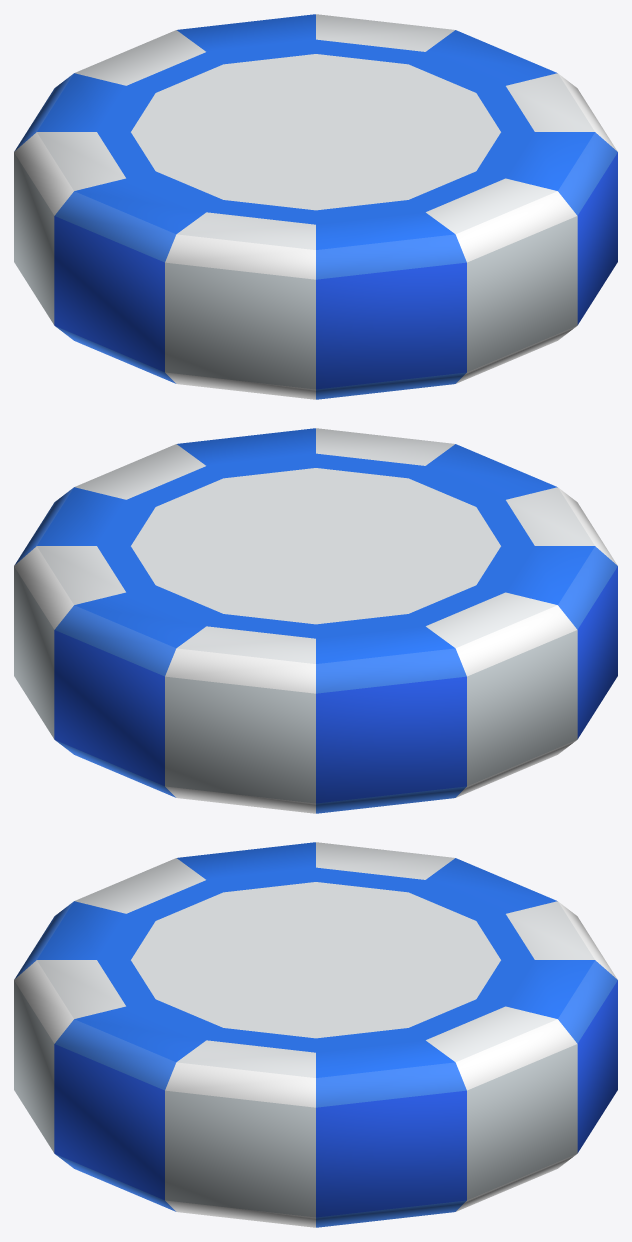
File: Chips_B.fbx
3 views of the same model, one above another, from view 1: azimuth 30°, elevation 25°; view 2: azimuth 150°, elevation 25°; view 3: azimuth 270°, elevation 25° (orthographic).
Visible parts, largest first — view 1: Chips_B; view 2: Chips_B; view 3: Chips_B.
Part boxes in pixels (x1,y1,x2,y2): Chips_B: [14, 14, 617, 399]; Chips_B: [14, 428, 617, 813]; Chips_B: [14, 842, 617, 1227].
Bounding box in the file's own units: 0.7047 × 0.7047 × 0.1927.
